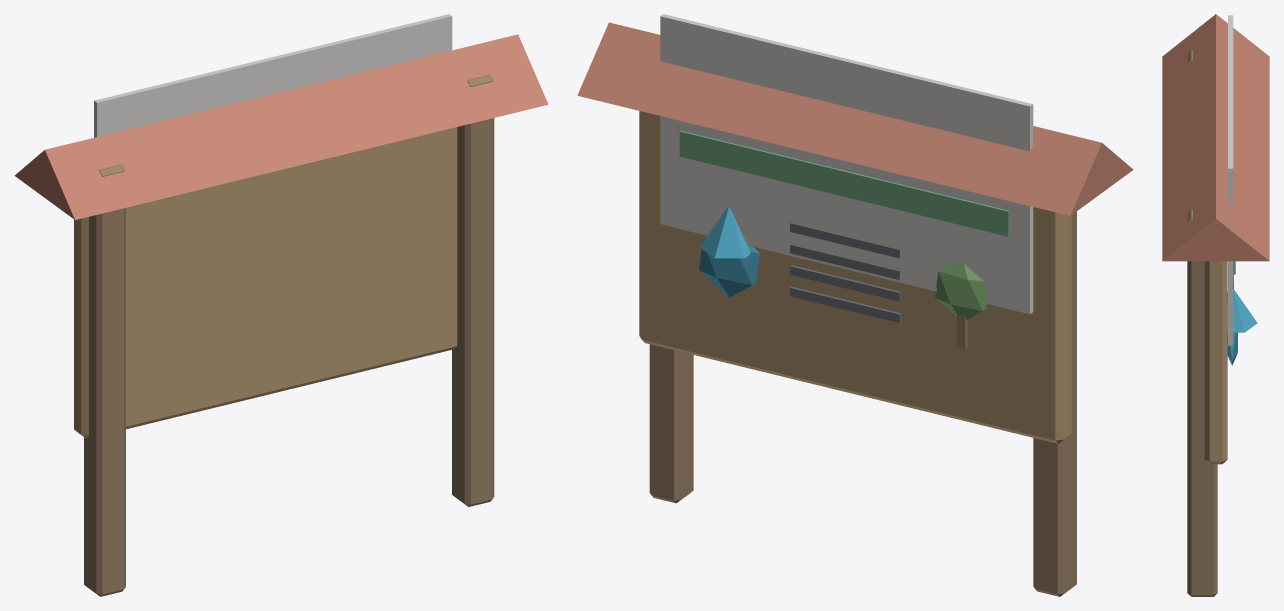
Rendered from mobiliario__placa_educativa.glb.
The picture shows the model from 3 angles, left to right: view 1: azimuth 30°, elevation 25°; view 2: azimuth 150°, elevation 25°; view 3: azimuth 270°, elevation 25°; orthographic projection. The views are drawn at different scales.
Visible parts, largest first — view 1: mobiliario__placa_educativa; view 2: mobiliario__placa_educativa; view 3: mobiliario__placa_educativa.
Boxes of the visible parts, box(x1,y1,x2,y2) form: mobiliario__placa_educativa: box(14, 14, 548, 596); mobiliario__placa_educativa: box(577, 14, 1133, 596); mobiliario__placa_educativa: box(1162, 14, 1269, 596).
Bounding box in the file's own units: 0.72 × 0.69 × 0.16.
